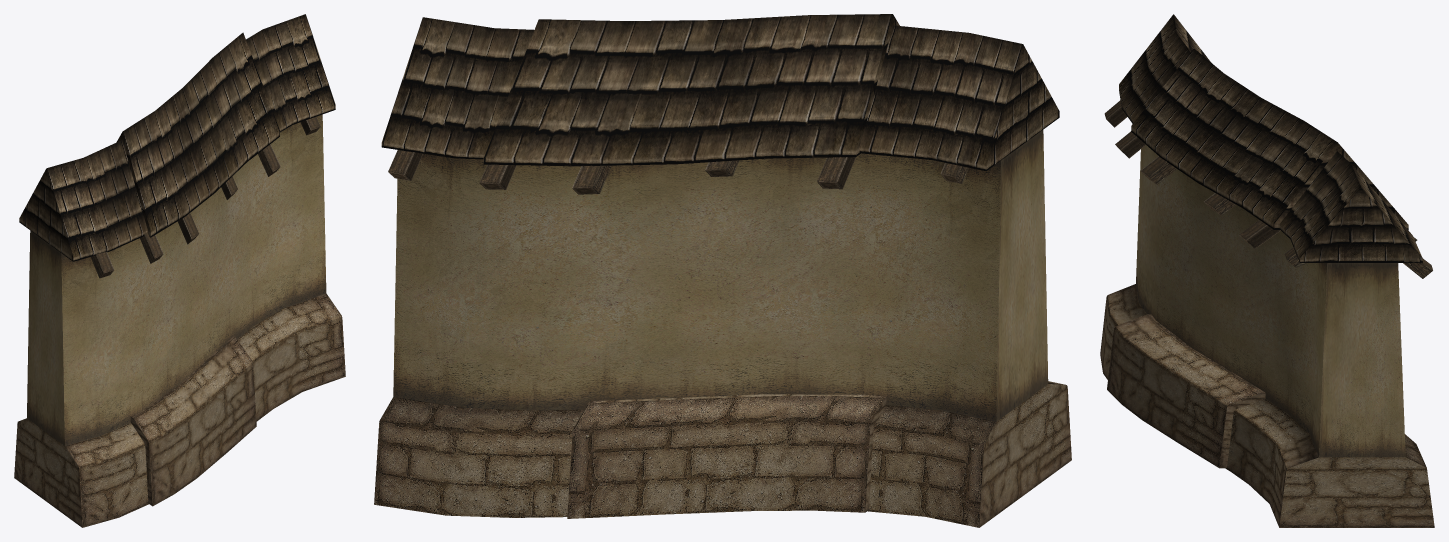
The model's file is Wall_06.fbx.
3 views of the same model, side by side, from view 1: azimuth 30°, elevation 25°; view 2: azimuth 150°, elevation 25°; view 3: azimuth 270°, elevation 25° (orthographic). The views are drawn at different scales.
Visible parts, largest first — view 1: Wall_06; view 2: Wall_06; view 3: Wall_06.
Boxes of the visible parts, x1=… form: Wall_06: x1=14, y1=14, x2=345, y2=527; Wall_06: x1=374, y1=14, x2=1071, y2=527; Wall_06: x1=1100, y1=14, x2=1434, y2=527.
Size of the model in its own units: 8.51 by 7.95 by 6.88.
